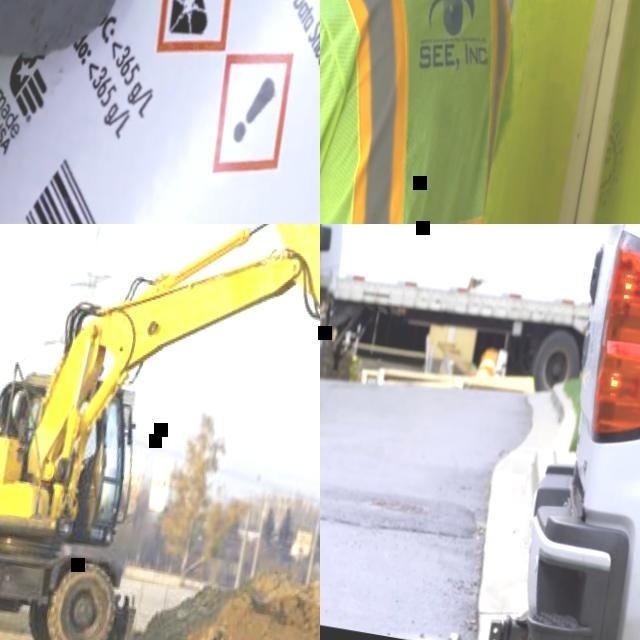Person: (320, 0, 572, 224)
Safety Cone: (475, 349, 501, 383)
Safety Vest: (320, 0, 542, 224)
machinery: (0, 224, 320, 640)
vehicle: (441, 224, 640, 640), (320, 224, 361, 418)
